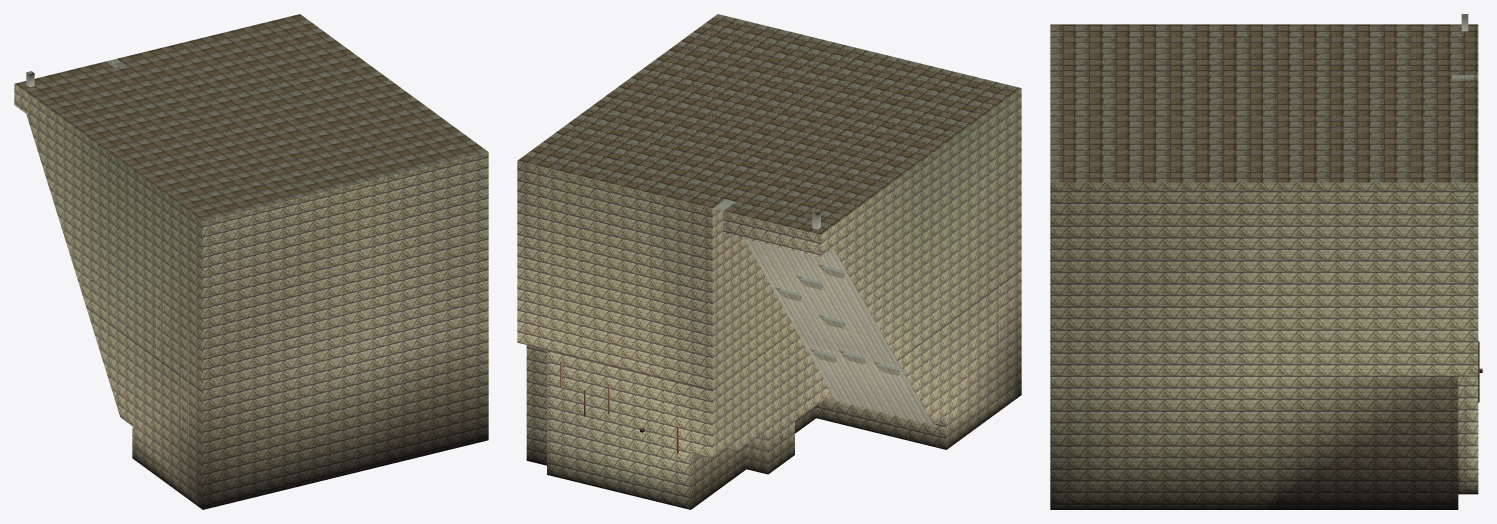
File: horisoko_all.glb
3 renders of one model, left to right at view 1: azimuth 30°, elevation 25°; view 2: azimuth 150°, elevation 25°; view 3: azimuth 270°, elevation 25°, orthographic. The views are drawn at different scales.
Visible parts, largest first — view 1: horisoko_all; view 2: horisoko_all; view 3: horisoko_all.
Boxes of the visible parts, box(x1,y1,x2,y2) form: horisoko_all: box(14, 14, 488, 509); horisoko_all: box(517, 14, 1021, 509); horisoko_all: box(1050, 14, 1482, 509).
Size of the model in its own units: 11.2 by 11.28 by 12.92.
7 materials, 7 textured.
